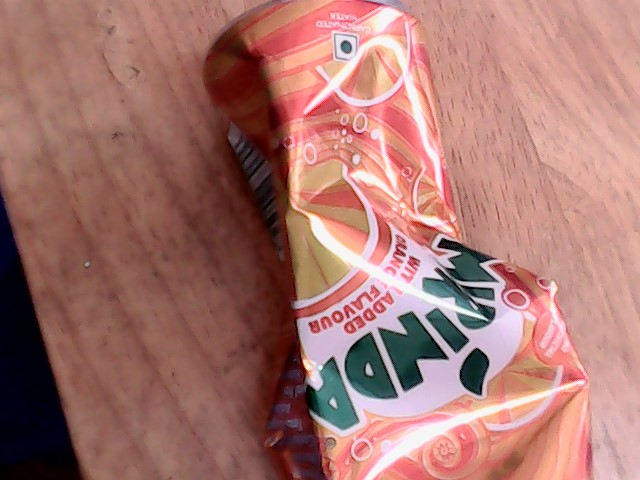Metal: (210, 21, 585, 480)
